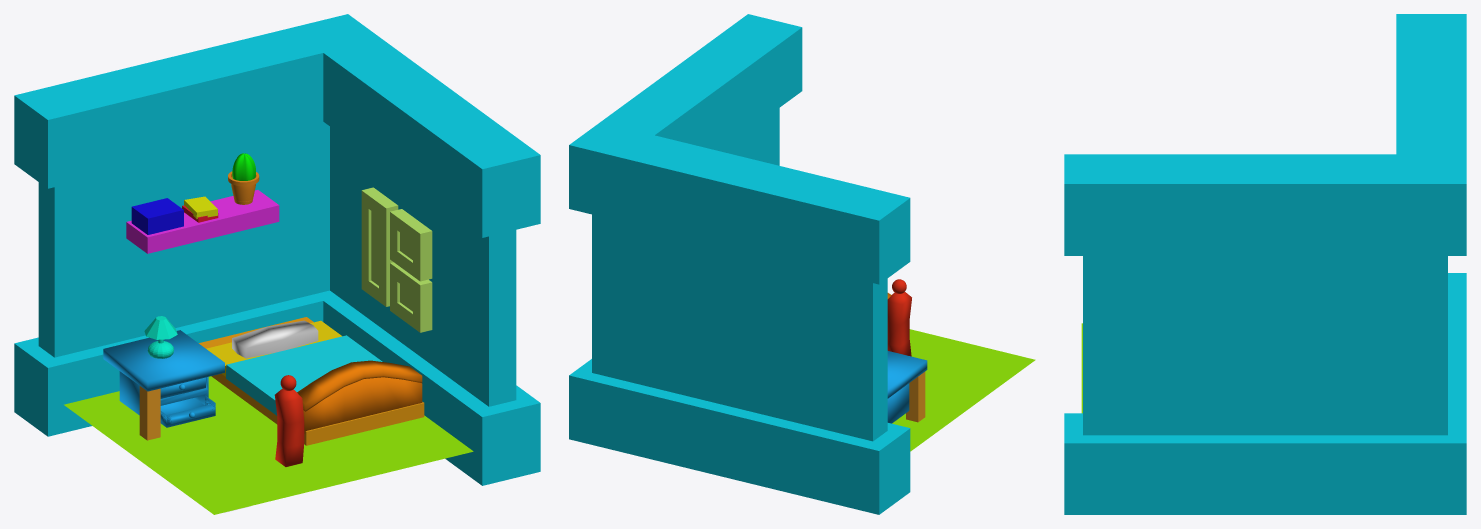
The model's file is room_no_compress.glb.
The picture shows the model from 3 angles, left to right: view 1: azimuth 30°, elevation 25°; view 2: azimuth 150°, elevation 25°; view 3: azimuth 270°, elevation 25°; orthographic projection. The views are drawn at different scales.
Parts seen in each view (by area): view 1: Cube, Plane, Cube.001, Plane.009, Plane.004, Plane.007, Cube.003, Plane.002, Plane.005, Plane.008, Cube.006, Plane.010 (+3 smaller); view 2: Cube, Plane, Plane.009, Plane.005, Plane.010; view 3: Cube.
Boxes of the visible parts, x1=… form: Cube: x1=14, y1=14, x2=540, y2=485; Plane: x1=64, y1=376, x2=473, y2=514; Cube.001: x1=361, y1=187, x2=432, y2=332; Plane.009: x1=103, y1=330, x2=224, y2=427; Plane.004: x1=297, y1=360, x2=422, y2=434; Plane.007: x1=226, y1=335, x2=382, y2=415; Cube.003: x1=126, y1=190, x2=279, y2=253; Plane.002: x1=199, y1=317, x2=424, y2=445; Plane.005: x1=274, y1=375, x2=304, y2=466; Plane.008: x1=232, y1=320, x2=318, y2=358; Cube.006: x1=131, y1=198, x2=183, y2=234; Plane.010: x1=139, y1=386, x2=160, y2=440; Cube: x1=569, y1=14, x2=910, y2=514; Plane: x1=892, y1=329, x2=1035, y2=451; Plane.009: x1=887, y1=351, x2=927, y2=423; Plane.005: x1=887, y1=279, x2=911, y2=356; Plane.010: x1=906, y1=371, x2=925, y2=422; Cube: x1=1064, y1=14, x2=1466, y2=514.
Size of what is drawn, in the model's own units: 2.21 by 2 by 2.21.
